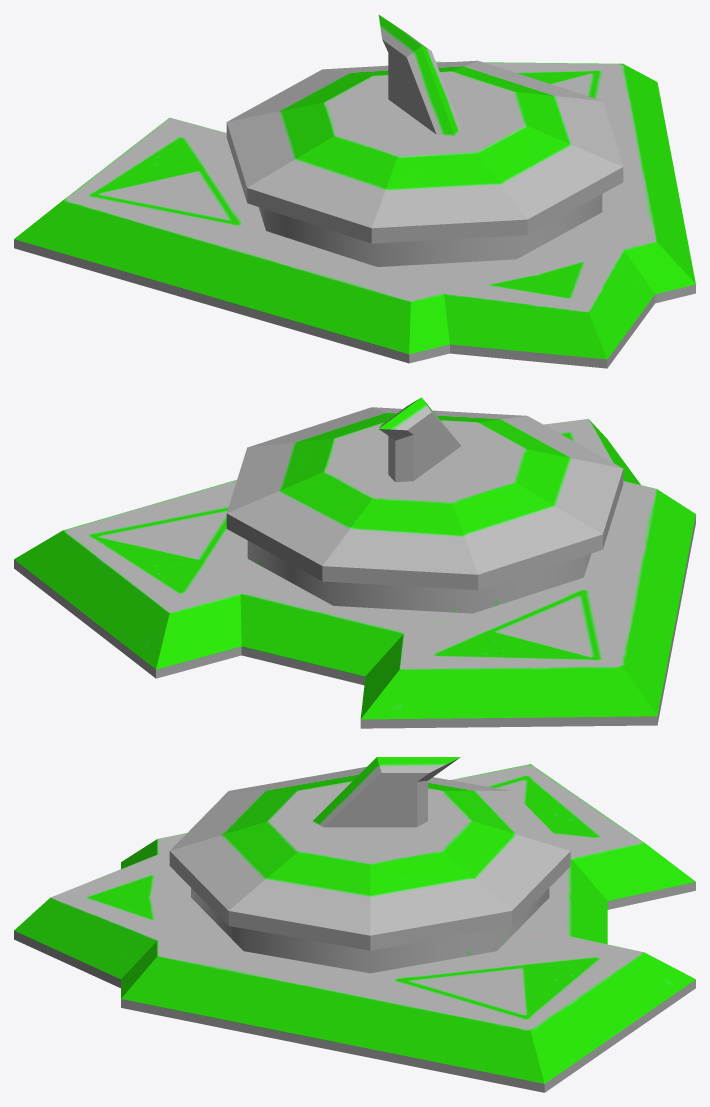
The model's file is UFO_Speed03.fbx.
3 views of the same model, one above another, from view 1: azimuth 30°, elevation 25°; view 2: azimuth 150°, elevation 25°; view 3: azimuth 270°, elevation 25° (orthographic). The views are drawn at different scales.
Parts seen in each view (by area): view 1: P_UFO_Speed; view 2: P_UFO_Speed; view 3: P_UFO_Speed.
Boxes of the visible parts, <box> form: P_UFO_Speed: <box>14,15,695,368</box>; P_UFO_Speed: <box>14,397,695,728</box>; P_UFO_Speed: <box>14,757,695,1092</box>.
Bounding box in the file's own units: 3.14 × 0.8701 × 2.95.
1 material, 1 textured.
